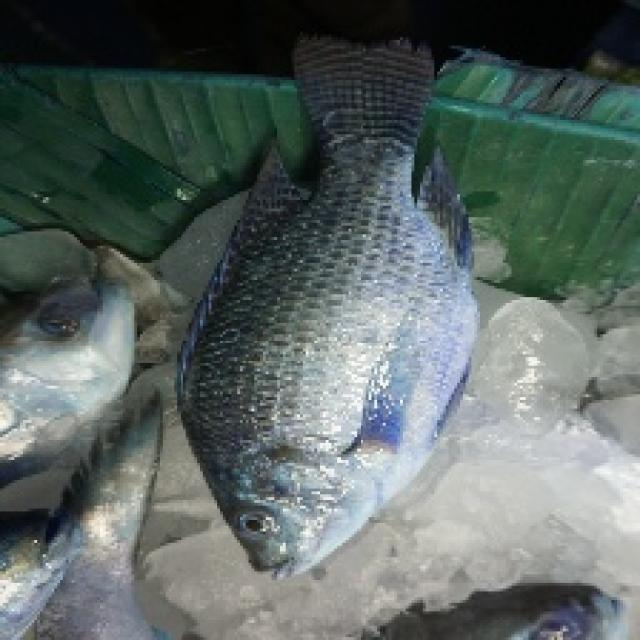Fresh: (193, 69, 443, 596)
